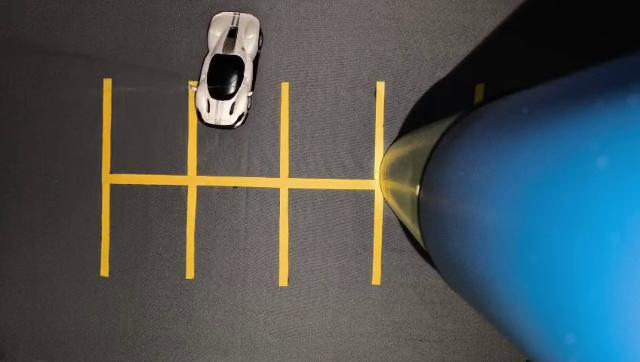toy_car: (183, 2, 283, 128)
